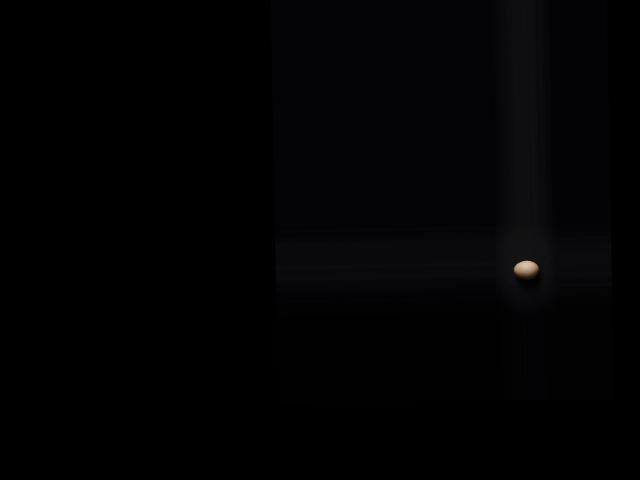egg: (512, 260, 539, 279)
